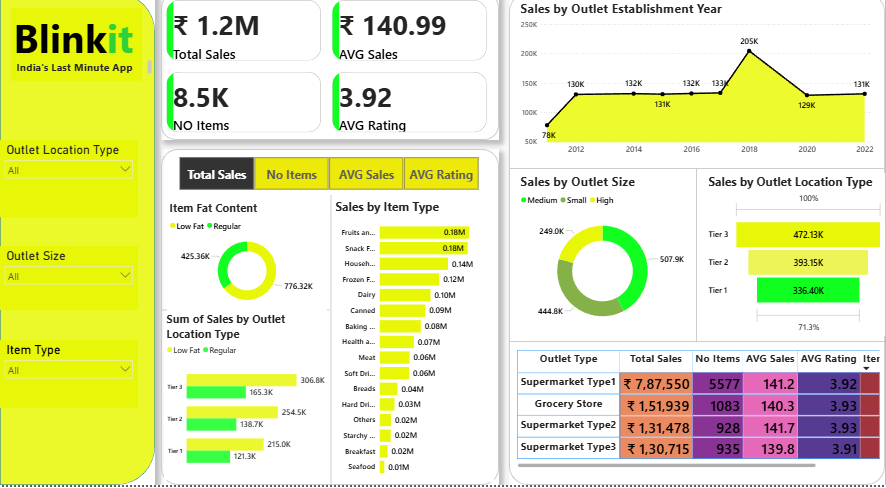

This screenshot's page, from the dashboard's own definition file:
{"tool":"powerbi","page":{"name":"Page 1","canvas":[1800,1000],"ordinal":0},"visuals":[{"type":"group","id":"g1","title":"Group 1","box":[0,0,315,1000],"z":0},{"type":"shape","box":[327.2,0,687,298.8],"z":0,"group":"g2"},{"type":"shape","box":[327.3,317.5,687,682.9],"z":0,"group":"g3"},{"type":"shape","box":[0,0,315,1000],"z":1000,"group":"g1"},{"type":"group","id":"g2","title":"Group 2","box":[327.2,0,687,298.8],"z":1000},{"type":"cardVisual","fields":{"Data":["Sum(BlinkIT Grocery Data.Sales)","BlinkIT Grocery Data.Average Sales","BlinkIT Grocery Data.No items","BlinkIT Grocery Data.Average Rating"]},"box":[333.3,14.2,662.6,270.3],"z":1000,"group":"g2"},{"type":"group","id":"g3","title":"Group 3","box":[327.3,317.5,687,682.9],"z":2000,"group":"g6"},{"type":"shape","box":[664.2,410.4,16.3,589.4],"z":2000,"group":"g3"},{"type":"shape","box":[1036.6,697.2,764.2,22.4],"z":2000},{"type":"shape","box":[1035.4,0,764.2,1000],"z":3000,"group":"g5"},{"type":"textbox","box":[22.1,30.1,266.9,148.4],"z":3000,"group":"g1"},{"type":"donutChart","title":" Item Fat Content","fields":{"Y":["BlinkIT Grocery Data.Total Sales"],"Category":["BlinkIT Grocery Data.Item Fat Content"]},"box":[339,420.5,325.2,225.6],"z":3000,"group":"g3"},{"type":"shape","box":[327.2,630.1,343.5,28.5],"z":3000},{"type":"lineChart","title":"Sales by Outlet Establishment Year","fields":{"Category":["BlinkIT Grocery Data.Outlet Establishment Year"],"Y":["Sum(BlinkIT Grocery Data.Sales)"]},"box":[1053.7,14.2,727.6,323.2],"z":4000,"group":"g5"},{"type":"slicer","fields":{"Values":["BlinkIT Grocery Data.Outlet Location Type"]},"box":[0,298.8,280.5,156.5],"z":4000,"group":"g1"},{"type":"card","fields":{"Values":["Sum(BlinkIT Grocery Data.Sales)"]},"box":[469.5,542.7,63,36.6],"z":4000},{"type":"clusteredBarChart","title":"Sum of Sales by Outlet Location Type ","fields":{"Y":["BlinkIT Grocery Data.Total Sales"],"Category":["BlinkIT Grocery Data.Outlet Location Type"],"Series":["BlinkIT Grocery Data.Item Fat Content"]},"box":[332.9,646.2,333.3,343.5],"z":4000,"group":"g3"},{"type":"group","id":"g4","title":"Group 4","box":[1034.6,0,766.3,1000],"z":5000},{"type":"shape","box":[1035.4,345.5,764.2,22.4],"z":5000,"group":"g5"},{"type":"barChart","title":"Sales by Item Type","fields":{"Y":["BlinkIT Grocery Data.Total Sales"],"Category":["BlinkIT Grocery Data.Item Type"]},"box":[676.4,416.5,327.2,577.2],"z":5000,"group":"g3"},{"type":"slicer","fields":{"Values":["BlinkIT Grocery Data.Item Type"]},"box":[0,705.3,280.5,138.2],"z":5000,"group":"g1"},{"type":"textbox","box":[0,132.1,313,36.6],"z":6000},{"type":"shape","box":[1397.2,357.7,38.6,351.6],"z":6000,"group":"g5"},{"type":"slicer","fields":{"Values":["BlinkIT Grocery Data.Outlet Size"]},"box":[0,514.2,280.5,130.1],"z":6000,"group":"g1"},{"type":"group","id":"g5","title":"Group 5","box":[1034.6,0,765,1000],"z":6001,"group":"g4"},{"type":"group","id":"g6","title":"Group 6","box":[327.3,317.5,687,682.9],"z":7000},{"type":"donutChart","title":"Sales by Outlet Size","fields":{"Y":["Sum(BlinkIT Grocery Data.Sales)"],"Category":["BlinkIT Grocery Data.Outlet Size"]},"box":[1053.7,365.9,343.5,333.3],"z":7000,"group":"g5"},{"type":"slicer","fields":{"Values":["Matrics.Matrics"]},"box":[339.5,327.2,656.5,79.3],"z":7001,"group":"g6"},{"type":"funnel","title":" Sales by Outlet Location Type","fields":{"Y":["Sum(BlinkIT Grocery Data.Sales)"],"Category":["BlinkIT Grocery Data.Outlet Location Type"]},"box":[1435.8,365.9,363.8,331.3],"z":8000,"group":"g5"},{"type":"pivotTable","fields":{"Values":["Sum(BlinkIT Grocery Data.Sales)","BlinkIT Grocery Data.No items","BlinkIT Grocery Data.Average Sales","BlinkIT Grocery Data.Average Rating","Sum(BlinkIT Grocery Data.Item Visibility)"],"Rows":["BlinkIT Grocery Data.Outlet Type"]},"box":[1046,719.5,745.9,250],"z":9000,"group":"g5"},{"type":"shape","box":[1034.6,697.2,764.2,22.4],"z":10001,"group":"g5"}]}

Visuals, with their boxes in screenshot pixels (x1, y1, x2, y2), scaled from the page's 1800x1000 canvas onto the 886x488 screenshot:
"Group 1" group: {"left": 0, "top": 0, "right": 155, "bottom": 487}
shape: {"left": 161, "top": 0, "right": 499, "bottom": 146}
shape: {"left": 161, "top": 155, "right": 499, "bottom": 487}
shape: {"left": 0, "top": 0, "right": 155, "bottom": 487}
"Group 2" group: {"left": 161, "top": 0, "right": 499, "bottom": 146}
cardVisual - Sum(BlinkIT Grocery Data.Sales) x BlinkIT Grocery Data.Average Sales: {"left": 164, "top": 7, "right": 490, "bottom": 139}
"Group 3" group: {"left": 161, "top": 155, "right": 499, "bottom": 487}
shape: {"left": 327, "top": 200, "right": 335, "bottom": 487}
shape: {"left": 510, "top": 340, "right": 885, "bottom": 351}
shape: {"left": 510, "top": 0, "right": 885, "bottom": 487}
textbox: {"left": 11, "top": 15, "right": 142, "bottom": 87}
" Item Fat Content" donutChart: {"left": 167, "top": 205, "right": 327, "bottom": 315}
shape: {"left": 161, "top": 307, "right": 330, "bottom": 321}
"Sales by Outlet Establishment Year" lineChart: {"left": 519, "top": 7, "right": 877, "bottom": 165}
slicer - BlinkIT Grocery Data.Outlet Location Type: {"left": 0, "top": 146, "right": 138, "bottom": 222}
card - Sum(BlinkIT Grocery Data.Sales): {"left": 231, "top": 265, "right": 262, "bottom": 283}
"Sum of Sales by Outlet Location Type " clusteredBarChart: {"left": 164, "top": 315, "right": 328, "bottom": 483}
"Group 4" group: {"left": 509, "top": 0, "right": 885, "bottom": 487}
shape: {"left": 510, "top": 169, "right": 885, "bottom": 180}
"Sales by Item Type" barChart: {"left": 333, "top": 203, "right": 494, "bottom": 485}
slicer - BlinkIT Grocery Data.Item Type: {"left": 0, "top": 344, "right": 138, "bottom": 412}
textbox: {"left": 0, "top": 64, "right": 154, "bottom": 82}
shape: {"left": 688, "top": 175, "right": 707, "bottom": 346}
slicer - BlinkIT Grocery Data.Outlet Size: {"left": 0, "top": 251, "right": 138, "bottom": 314}
"Group 5" group: {"left": 509, "top": 0, "right": 885, "bottom": 487}
"Group 6" group: {"left": 161, "top": 155, "right": 499, "bottom": 487}
"Sales by Outlet Size" donutChart: {"left": 519, "top": 179, "right": 688, "bottom": 341}
slicer - Matrics.Matrics: {"left": 167, "top": 160, "right": 490, "bottom": 198}
" Sales by Outlet Location Type" funnel: {"left": 707, "top": 179, "right": 885, "bottom": 340}
pivotTable - Sum(BlinkIT Grocery Data.Sales) x BlinkIT Grocery Data.No items: {"left": 515, "top": 351, "right": 882, "bottom": 473}
shape: {"left": 509, "top": 340, "right": 885, "bottom": 351}
